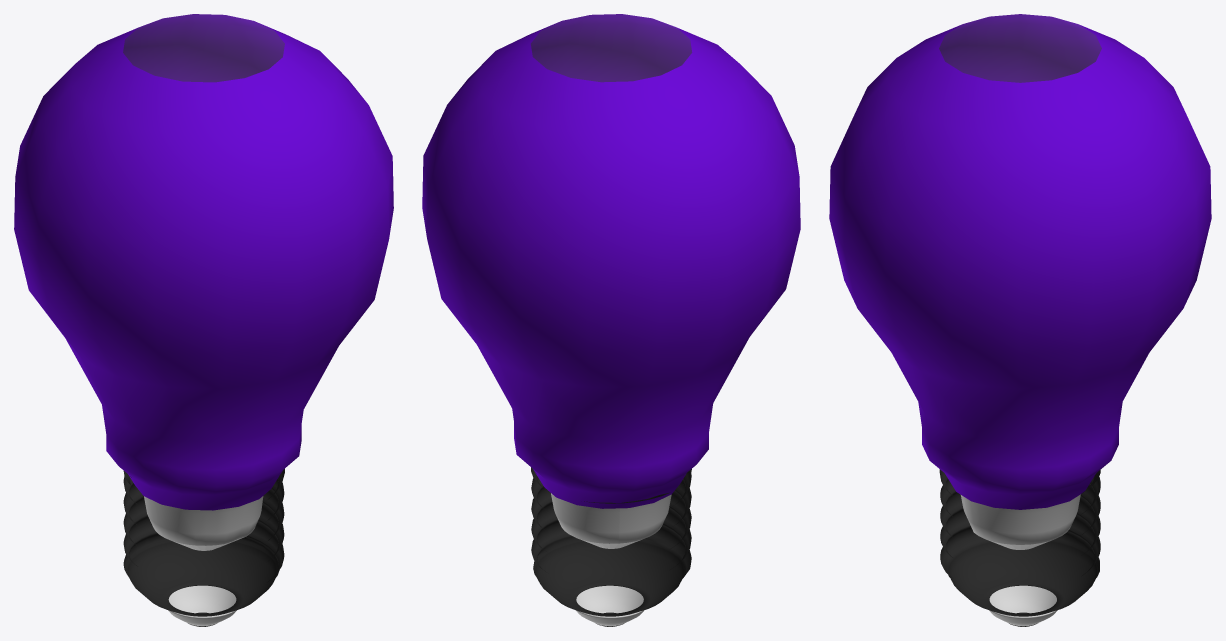
Rendered from bulb.dae.
3 renders of one model, left to right at view 1: azimuth 30°, elevation 25°; view 2: azimuth 150°, elevation 25°; view 3: azimuth 270°, elevation 25°, orthographic.
Parts seen in each view (by area): view 1: bulbGlass, bulbBase, Circle_005; view 2: bulbGlass, bulbBase, Circle_005; view 3: bulbGlass, bulbBase, Circle_005.
Part boxes in pixels (x1,y1,x2,y2): bulbGlass: (14, 14, 393, 510); bulbBase: (123, 469, 284, 626); Circle_005: (144, 496, 263, 550); bulbGlass: (422, 14, 800, 508); bulbBase: (531, 467, 691, 626); Circle_005: (551, 493, 671, 548); bulbGlass: (829, 14, 1211, 509); bulbBase: (939, 469, 1100, 626); Circle_005: (961, 494, 1080, 549).
Size of the model in its own units: 1.83 by 1.83 by 3.11.
